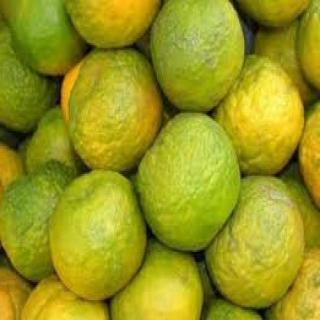orange: (139, 107, 243, 265), (59, 36, 162, 174), (148, 0, 250, 112)
